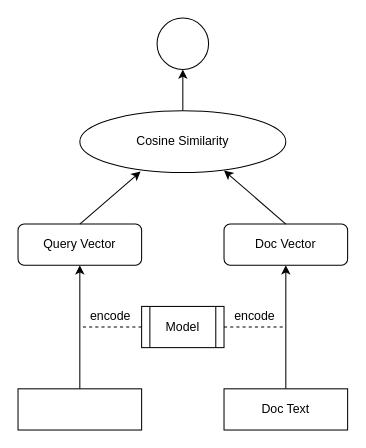
Some shapes in this 366 by 448 pixel diagram are drawn without their labels. Each missing label, with the box of its shape:
Query Text: (17, 388, 142, 430)
Score: (156, 17, 209, 70)
